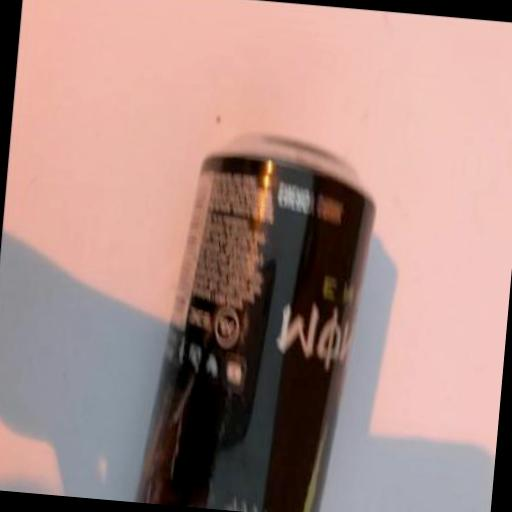metal: (131, 123, 384, 512)
